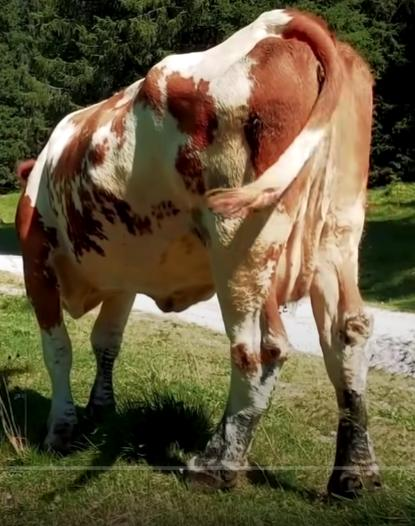cow: (17, 8, 374, 497)
